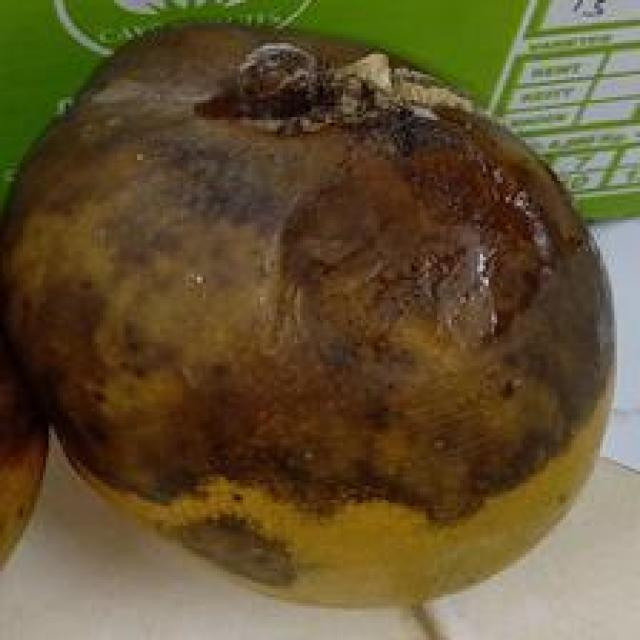Bad_Mango: (0, 26, 612, 604)
